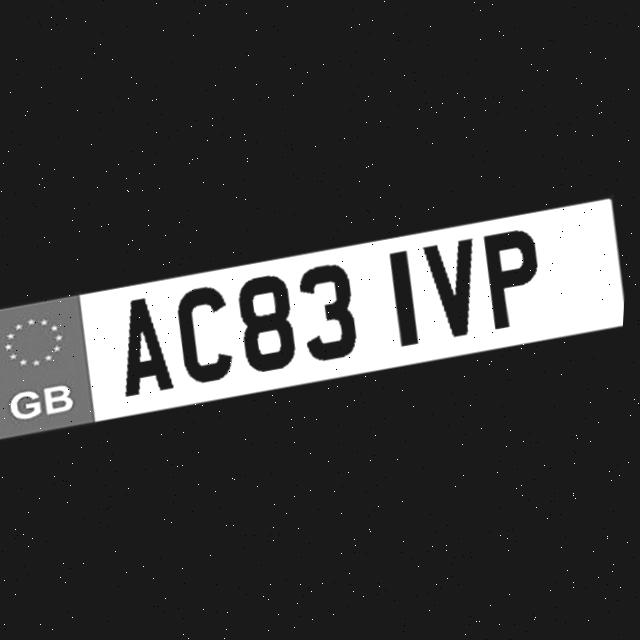license-plates: (0, 196, 625, 438)
